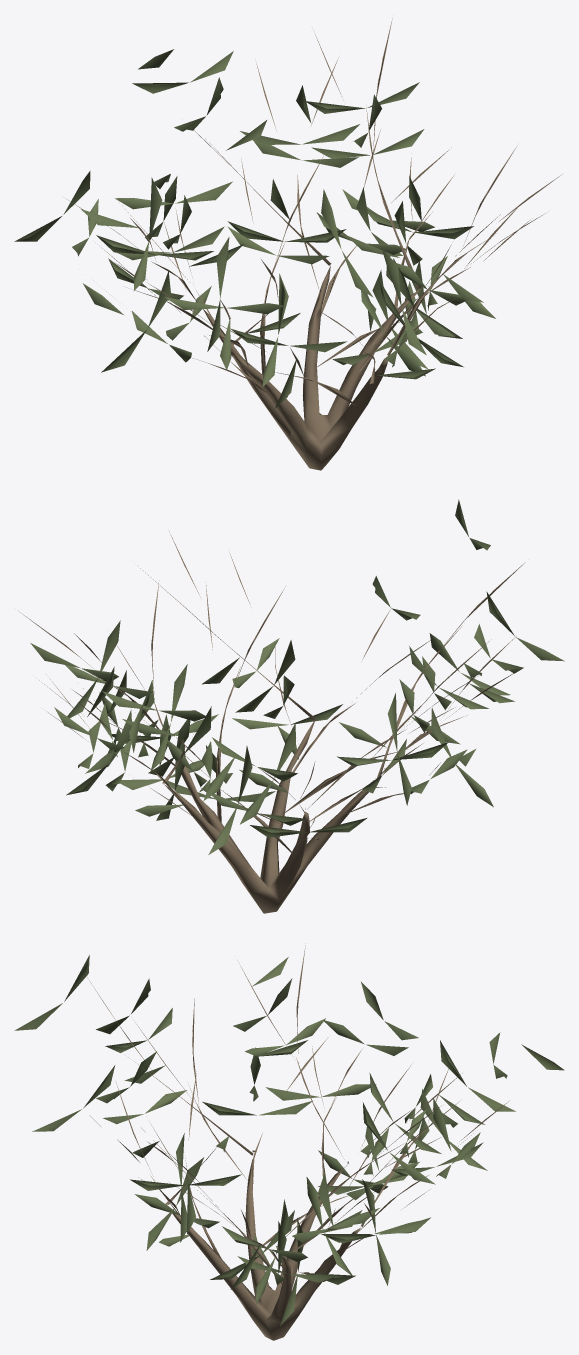
Rendered from Ciste_0_Niveau2.fbx.
3 renders of one model, top to bottom at view 1: azimuth 30°, elevation 25°; view 2: azimuth 150°, elevation 25°; view 3: azimuth 270°, elevation 25°, orthographic. The views are drawn at different scales.
Parts seen in each view (by area): view 1: Ciste_0_Niveau2; view 2: Ciste_0_Niveau2; view 3: Ciste_0_Niveau2.
Part boxes in pixels (x1,y1,x2,y2): Ciste_0_Niveau2: [14, 18, 562, 470]; Ciste_0_Niveau2: [20, 499, 564, 913]; Ciste_0_Niveau2: [14, 943, 564, 1340].
Bounding box in the file's own units: 67 × 56.09 × 82.24.
